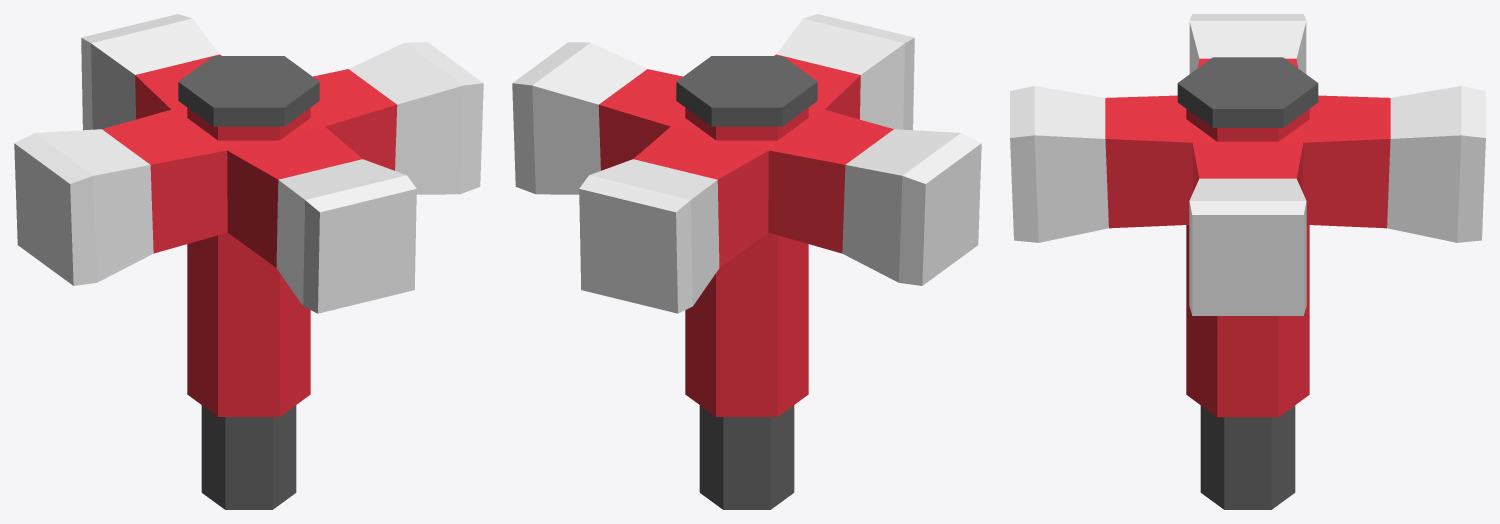
The model's file is modelo_item_aspersor.fbx.
3 views of the same model, side by side, from view 1: azimuth 30°, elevation 25°; view 2: azimuth 150°, elevation 25°; view 3: azimuth 270°, elevation 25° (orthographic).
Parts seen in each view (by area): view 1: Item Aspersor; view 2: Item Aspersor; view 3: Item Aspersor.
Part boxes in pixels (x1,y1,x2,y2): Item Aspersor: (14,14,483,509); Item Aspersor: (512,14,981,509); Item Aspersor: (1010,14,1485,509).
Bounding box in the file's own units: 64.2 × 60.95 × 64.2.
